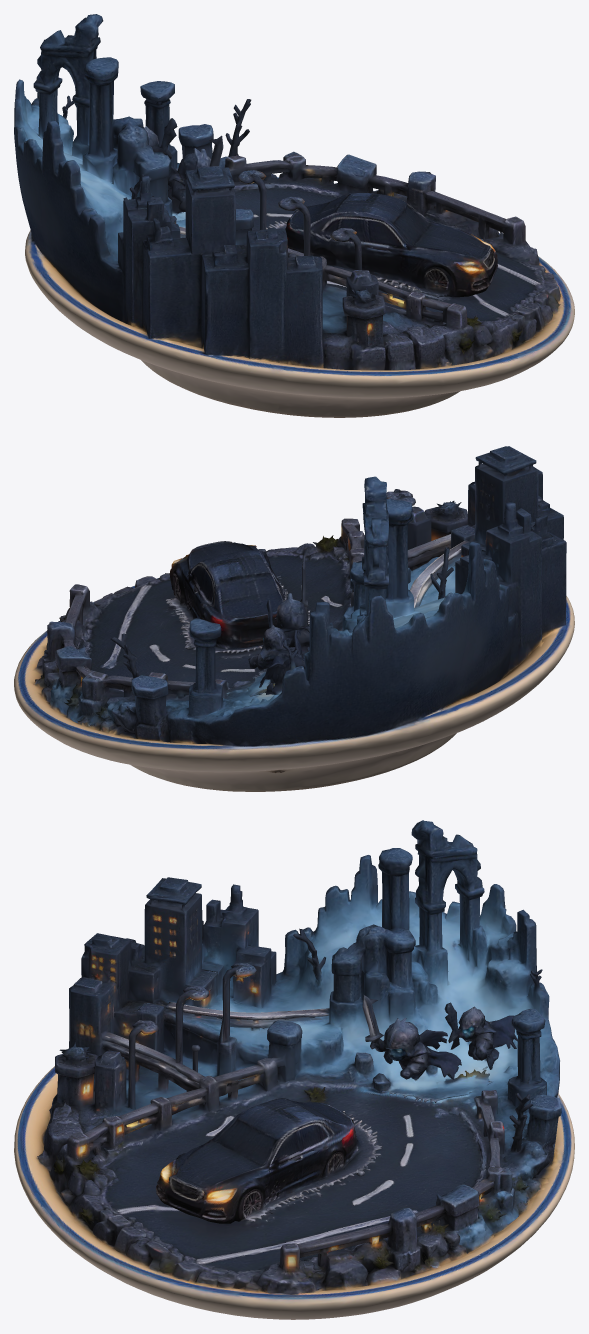
The model's file is niflheim.glb.
The picture shows the model from 3 angles, top to bottom: view 1: azimuth 30°, elevation 25°; view 2: azimuth 150°, elevation 25°; view 3: azimuth 270°, elevation 25°; orthographic projection. The views are drawn at different scales.
Visible parts, largest first — view 1: tripo_node_5af861f3-9ab0-434f-acd3-f79e91586474; view 2: tripo_node_5af861f3-9ab0-434f-acd3-f79e91586474; view 3: tripo_node_5af861f3-9ab0-434f-acd3-f79e91586474.
Part boxes in pixels (x1,y1,x2,y2): tripo_node_5af861f3-9ab0-434f-acd3-f79e91586474: (14,14,574,417); tripo_node_5af861f3-9ab0-434f-acd3-f79e91586474: (14,446,574,791); tripo_node_5af861f3-9ab0-434f-acd3-f79e91586474: (14,820,574,1319).
Bounding box in the file's own units: 0.9996 × 0.6868 × 1.
1 material, 1 textured.
